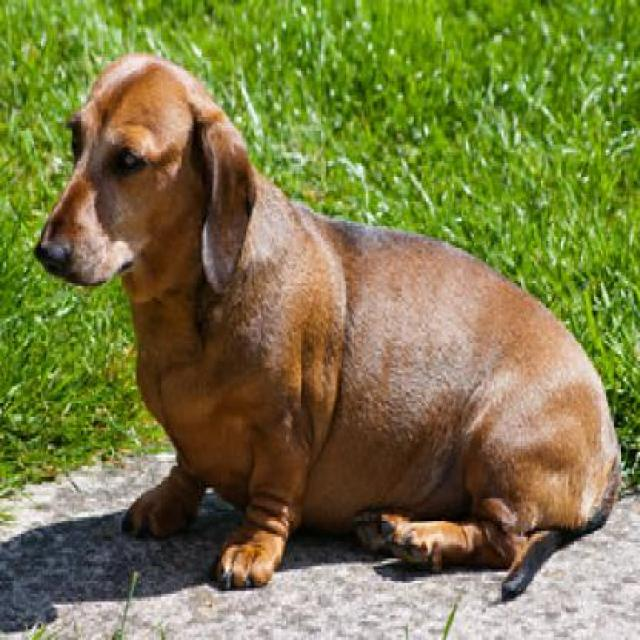Dog: (36, 38, 624, 597)
